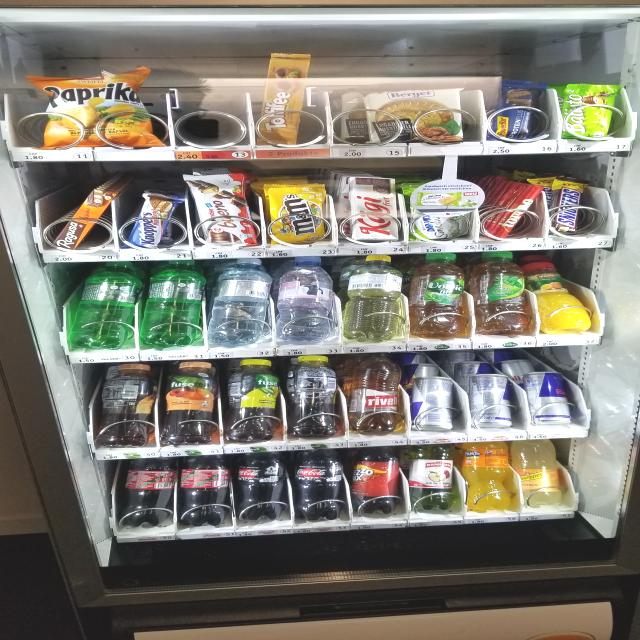balisto_muesli__37g__5000159418546: (559, 82, 618, 140)
berger_nusstoertli____: (365, 85, 467, 145)
bueno___43__4008400320328: (187, 171, 259, 251)
coke__flasche_50__54491472: (115, 456, 175, 527), (175, 453, 229, 528)
coke_zero_flasche_50__5449000131836: (292, 447, 344, 522), (232, 451, 287, 520)
darwida_sandwich____7610032065170: (404, 183, 472, 241)
evian___50__3068320353500: (278, 255, 338, 342)
fanta___50__40822938: (464, 440, 511, 512)
fuse_lemon__50__5449000235947: (223, 356, 281, 443), (287, 355, 337, 438)
fuse_peach__50__5449000236623: (93, 362, 159, 448), (160, 359, 218, 445)
granini_orange__50__: (534, 260, 592, 334)
kagi___50__7610046000259: (344, 174, 398, 242)
knoppers_riegel____4035800488808: (128, 189, 187, 250)
mezzomix___50__54490840: (349, 445, 400, 515)
mnms_gelb__45__40111445: (265, 182, 329, 248)
powerbar_proteinplusschoko__55__4029679520028: (484, 78, 550, 142)
ragusa___50__76401121: (51, 188, 114, 251)
ramseier_jusdepomme__50__7610057001078: (404, 442, 458, 512)
redbull___33__90162909: (528, 370, 574, 427), (414, 376, 455, 432), (472, 374, 512, 428)
rivella_rot__50__7610097111072: (350, 352, 402, 436)
schweppes_citrus__50__: (508, 441, 565, 506)
snickers___50__5000159461122: (553, 174, 589, 234)
toffifee___33__4014400924275: (250, 49, 315, 149)
torino___46__76415272: (488, 182, 544, 242)
valser_classic__50__76404160: (70, 260, 142, 350), (140, 259, 205, 350)
valser_still__50__7610335002575: (209, 256, 272, 348)
valser_vivabirne__50__7610335001530: (343, 251, 402, 343)
volvic_teeminze__50__3057640335648: (407, 250, 465, 338), (476, 250, 524, 337)
zweifel_paprika__90__7610095013002: (32, 65, 164, 149)
